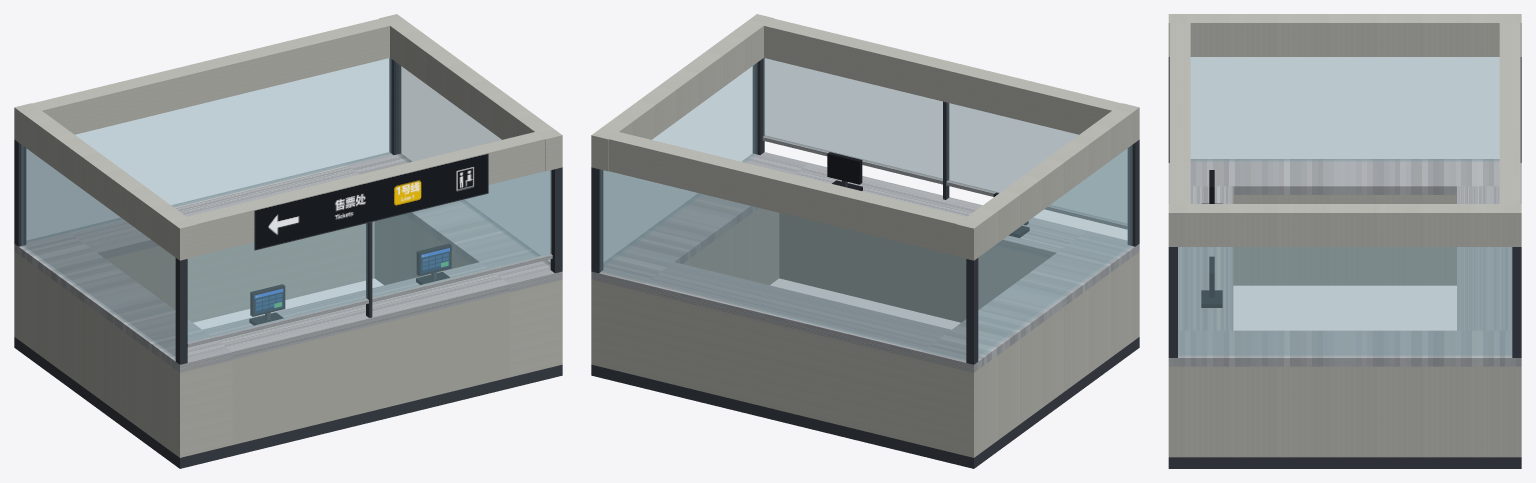
Rendered from ticket-booth.glb.
3 renders of one model, left to right at view 1: azimuth 30°, elevation 25°; view 2: azimuth 150°, elevation 25°; view 3: azimuth 270°, elevation 25°, orthographic. The views are drawn at different scales.
Parts seen in each view (by area): view 1: ticket-booth-part-022, ticket-booth-part-006, ticket-booth-part-000, ticket-booth-part-018, ticket-booth-part-023, ticket-booth-part-025, ticket-booth-part-015, ticket-booth-part-004, ticket-booth-part-021, ticket-booth-part-001, booth-sign-sheet, ticket-booth-part-012 (+17 smaller); view 2: ticket-booth-part-022, ticket-booth-part-004, ticket-booth-part-000, ticket-booth-part-018, ticket-booth-part-015, ticket-booth-part-006, ticket-booth-part-014, ticket-booth-part-025, ticket-booth-part-005, ticket-booth-part-023, ticket-booth-part-021, ticket-booth-part-001 (+15 smaller); view 3: ticket-booth-part-021, ticket-booth-part-002, ticket-booth-part-018, ticket-booth-part-013, ticket-booth-part-012, ticket-booth-part-003, ticket-booth-part-000, ticket-booth-part-001, ticket-booth-part-005, ticket-booth-part-007, ticket-booth-part-011, ticket-booth-part-014 (+3 smaller).
Part boxes in pixels (x1,y1,x2,y2): ticket-booth-part-022: (26,58,391,242); ticket-booth-part-006: (232,292,509,444); ticket-booth-part-000: (14,252,232,457); ticket-booth-part-018: (21,145,175,358); ticket-booth-part-023: (187,223,367,342); ticket-booth-part-025: (372,170,551,297); ticket-booth-part-015: (32,18,389,134); ticket-booth-part-004: (106,221,374,322); ticket-booth-part-021: (396,63,550,266); ticket-booth-part-001: (14,231,232,372); booth-sign-sheet: (254,153,488,250); ticket-booth-part-012: (14,103,197,260); ticket-booth-part-022: (600,170,966,361); ticket-booth-part-004: (644,292,921,444); ticket-booth-part-000: (921,252,1139,457); ticket-booth-part-018: (978,145,1132,358); ticket-booth-part-015: (609,132,966,255); ticket-booth-part-006: (779,213,1047,322); ticket-booth-part-014: (764,18,1121,134); ticket-booth-part-025: (763,58,942,179); ticket-booth-part-005: (644,262,950,359); ticket-booth-part-023: (947,103,1127,223); ticket-booth-part-021: (603,63,757,264); ticket-booth-part-001: (921,231,1139,372); ticket-booth-part-021: (1178,247,1512,356); ticket-booth-part-002: (1168,366,1521,457); ticket-booth-part-018: (1190,57,1499,161); ticket-booth-part-013: (1168,204,1521,246); ticket-booth-part-012: (1168,14,1521,56); ticket-booth-part-003: (1168,330,1521,366); ticket-booth-part-000: (1233,195,1456,285); ticket-booth-part-001: (1168,159,1521,194); ticket-booth-part-005: (1457,186,1521,330); ticket-booth-part-007: (1168,186,1233,330); ticket-booth-part-011: (1168,457,1520,468); ticket-booth-part-014: (1169,23,1190,203).
Bounding box in the file's own units: 4 × 2.4 × 3.
7 materials, 4 textured.
